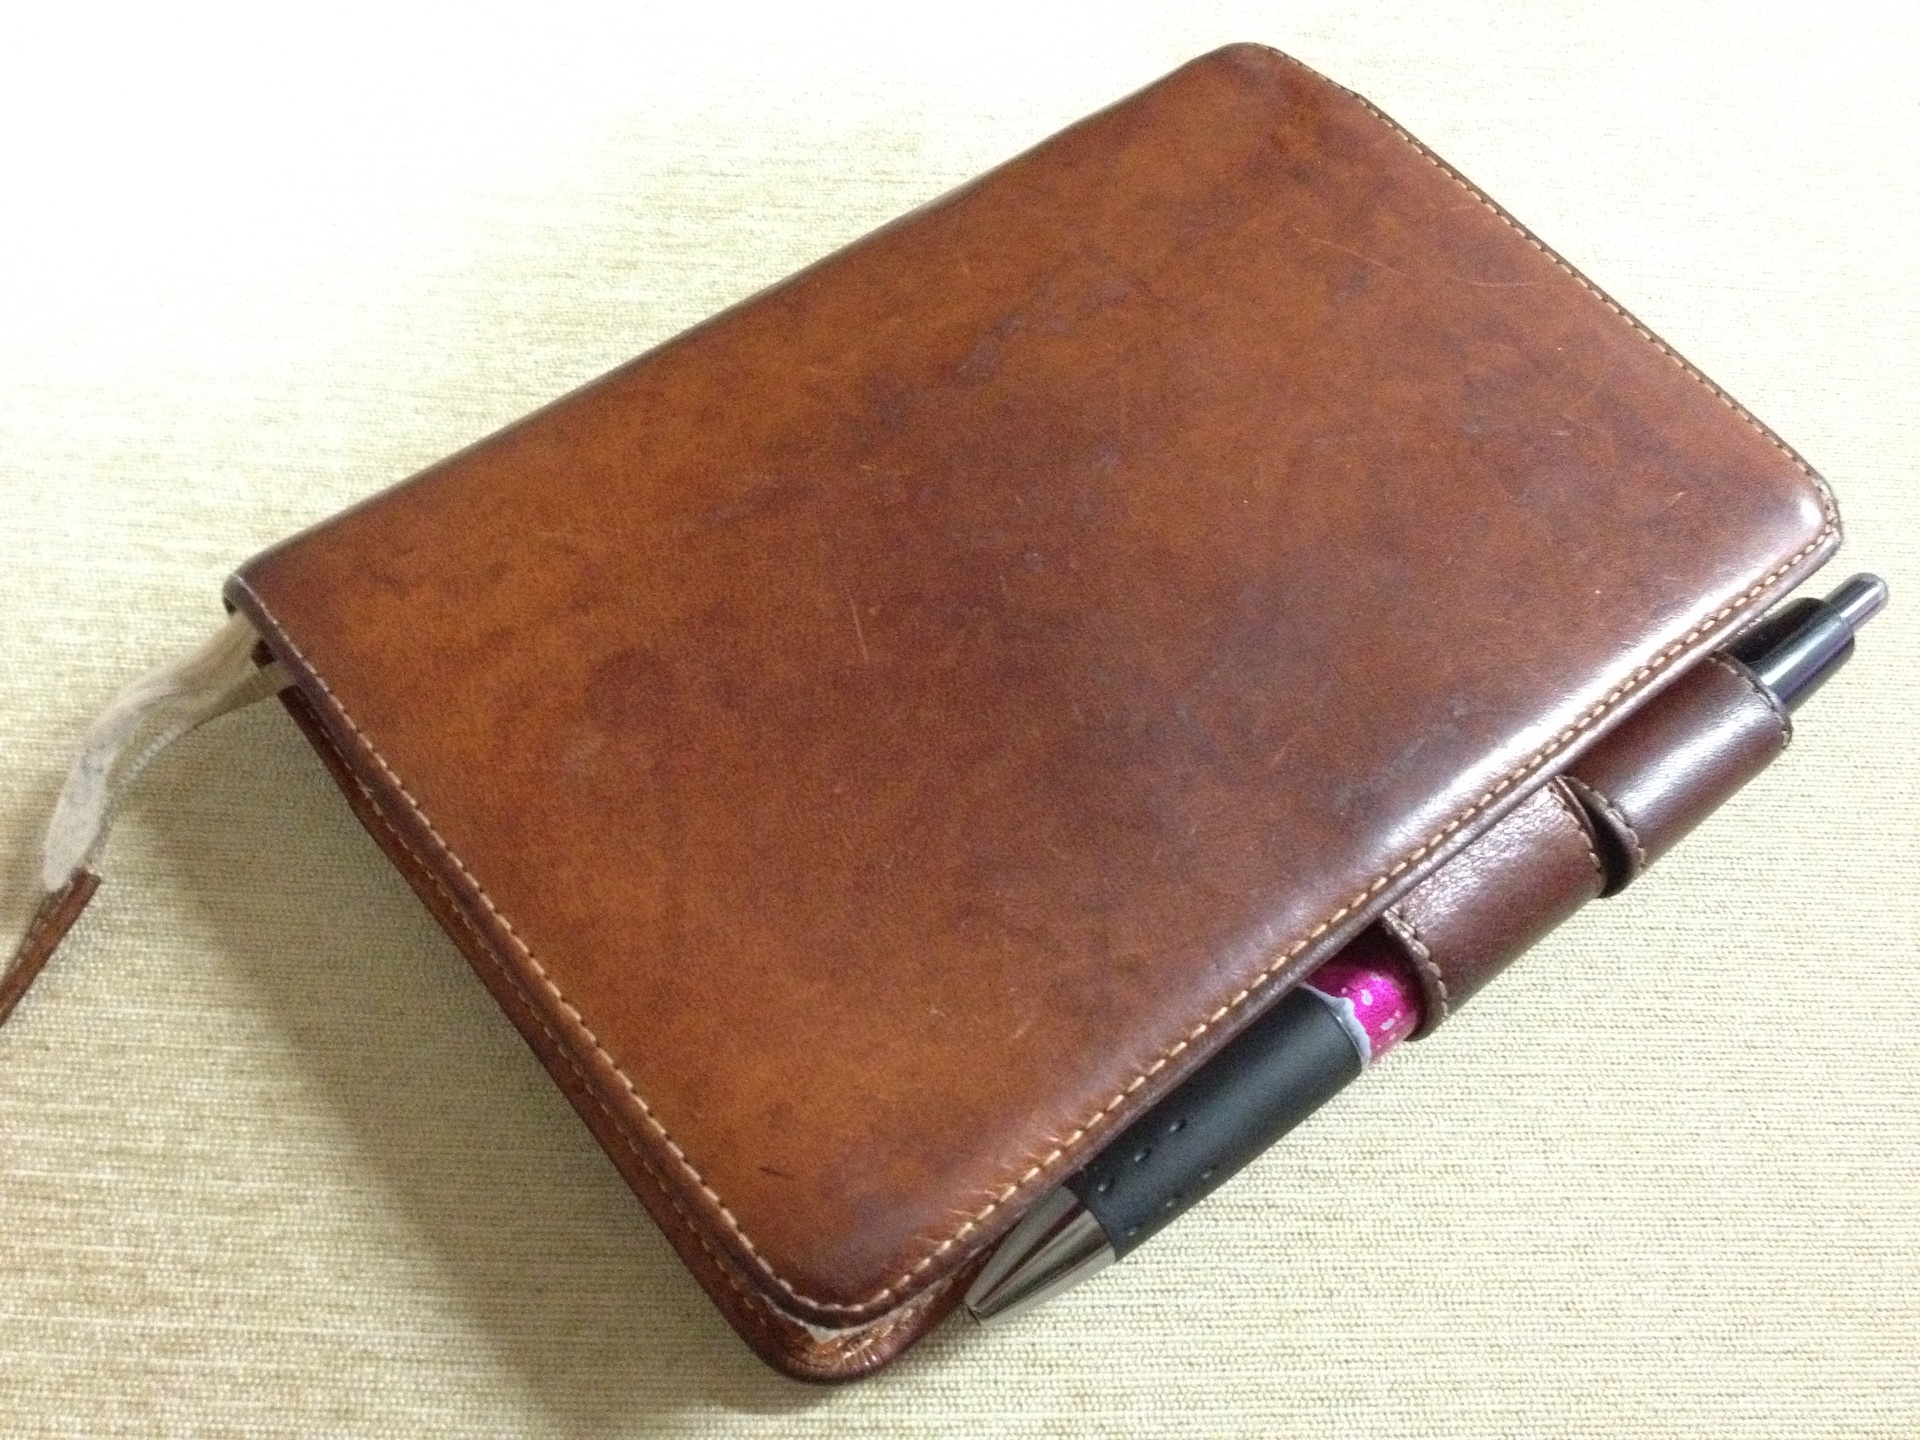monedero: (212, 36, 1853, 1393)
